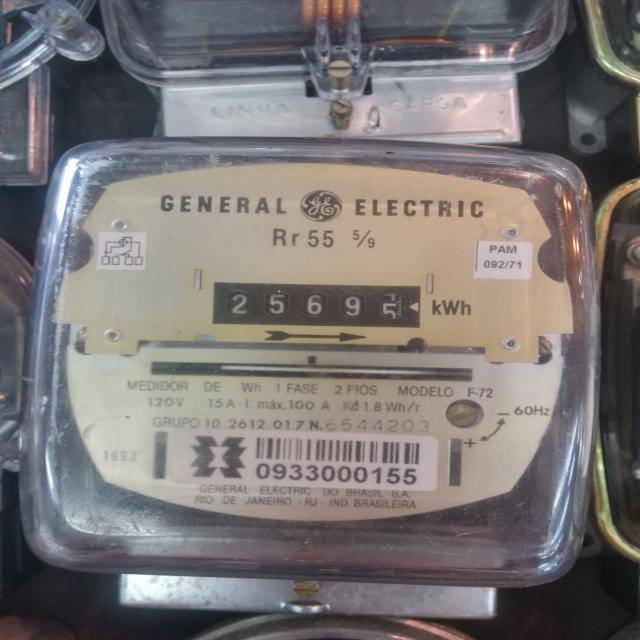2: (224, 288, 251, 318)
5: (380, 294, 406, 324), (262, 290, 289, 318)
6: (303, 287, 326, 317)
9: (340, 290, 367, 320)
analog meter: (191, 277, 488, 337)
